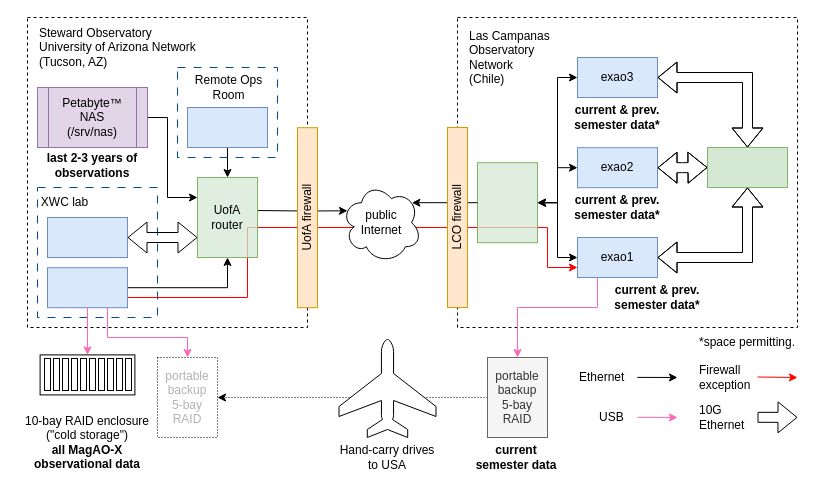
Image size: 823x495. Some labels were removed from this diagram. The shapes that lost their labels are listed below. From the top down, each one's centre as x and y in pixels, then its label:
the point at 227,127: exao5
the point at 747,167: instrument router
the point at 507,202: LCO router
the point at 87,237: exao0
the point at 87,287: exao6
